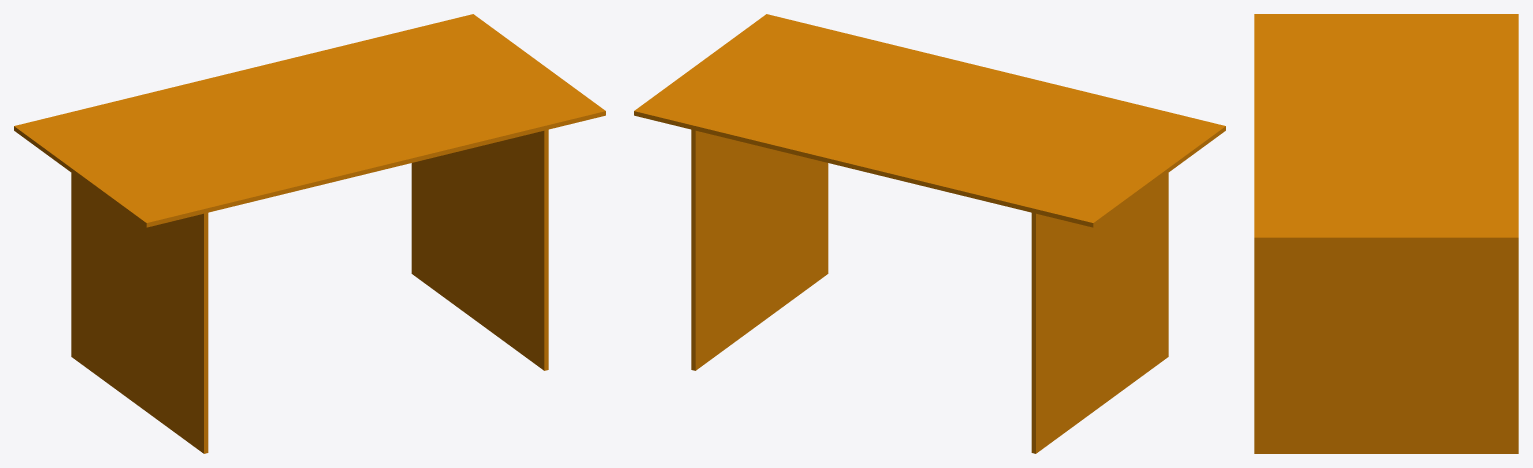
File: Table (1).gltf
3 views of the same model, side by side, from view 1: azimuth 30°, elevation 25°; view 2: azimuth 150°, elevation 25°; view 3: azimuth 270°, elevation 25° (orthographic).
Visible parts, largest first — view 1: 5bb02940-e4b4-4e0b-8fc3-cca32093b938; view 2: 5bb02940-e4b4-4e0b-8fc3-cca32093b938; view 3: 5bb02940-e4b4-4e0b-8fc3-cca32093b938.
Boxes of the visible parts, x1=… form: 5bb02940-e4b4-4e0b-8fc3-cca32093b938: x1=14, y1=14, x2=605, y2=453; 5bb02940-e4b4-4e0b-8fc3-cca32093b938: x1=634, y1=14, x2=1225, y2=453; 5bb02940-e4b4-4e0b-8fc3-cca32093b938: x1=1254, y1=14, x2=1518, y2=453.
Bounding box in the file's own units: 48 × 24.45 × 24.
